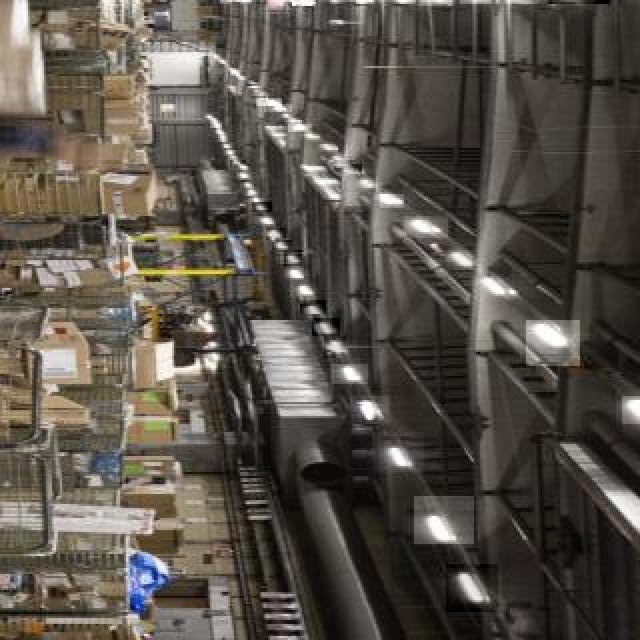fluorescent tube: (447, 553, 489, 616), (382, 429, 418, 487), (422, 504, 460, 558), (433, 240, 483, 273), (602, 386, 640, 429), (397, 211, 446, 244), (529, 324, 582, 352), (331, 360, 376, 391), (365, 184, 407, 216), (471, 271, 514, 302), (349, 400, 387, 427), (311, 317, 344, 346), (318, 347, 355, 360), (468, 0, 520, 8), (494, 0, 550, 6), (420, 0, 466, 6), (544, 0, 600, 4), (380, 0, 422, 4), (388, 0, 428, 4)
